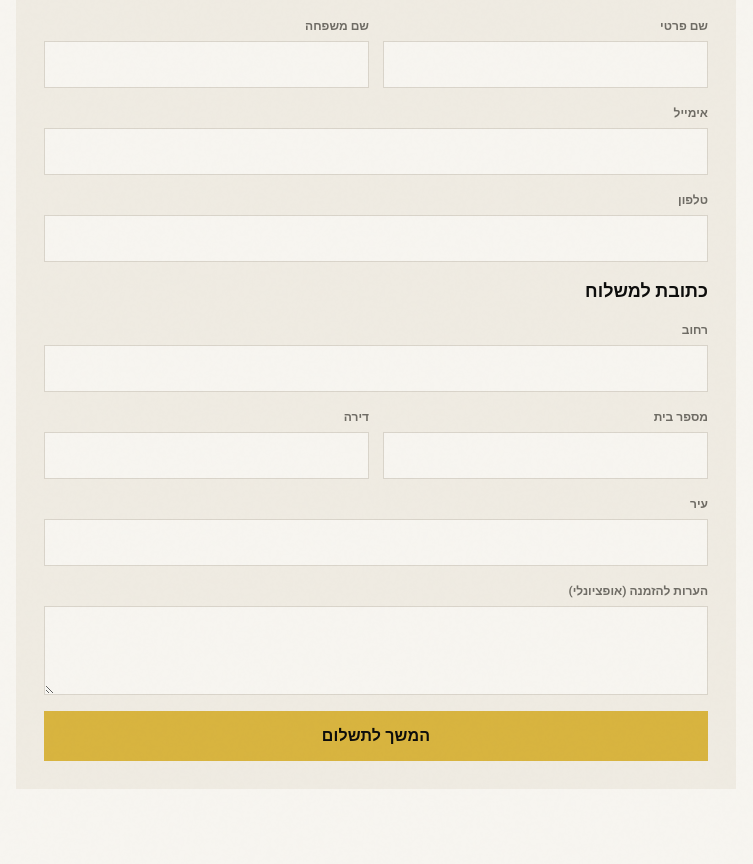
CheckoutPage order flow › marks and focuses the first missing field before payment
(page scrolled)
Click the button "המשך לתשלום".
click(376, 736)  # box [44, 711, 708, 761]
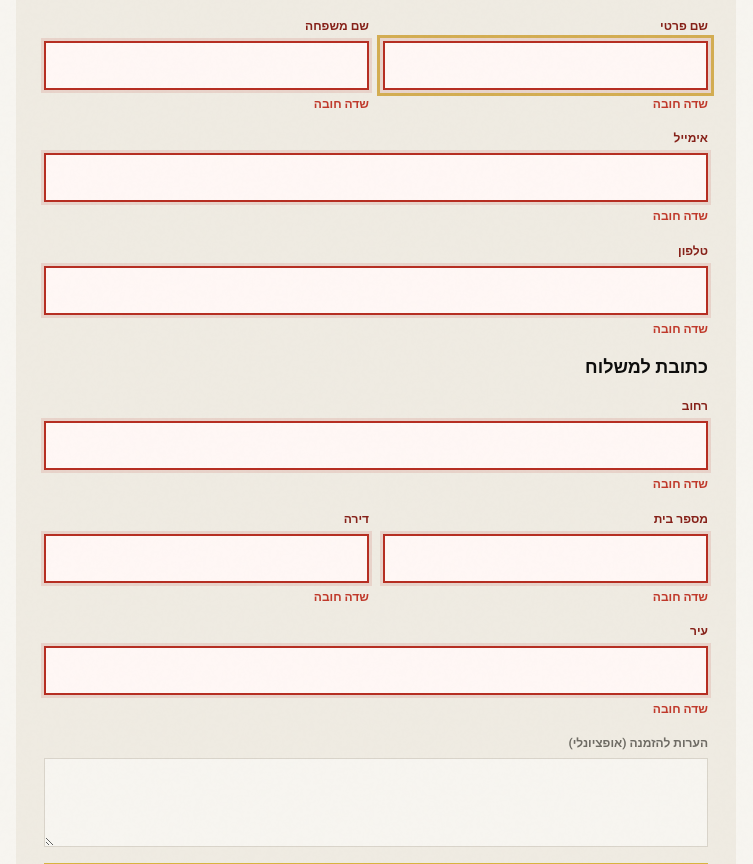
Check: the text "שדה חובה" is shown 8 times
